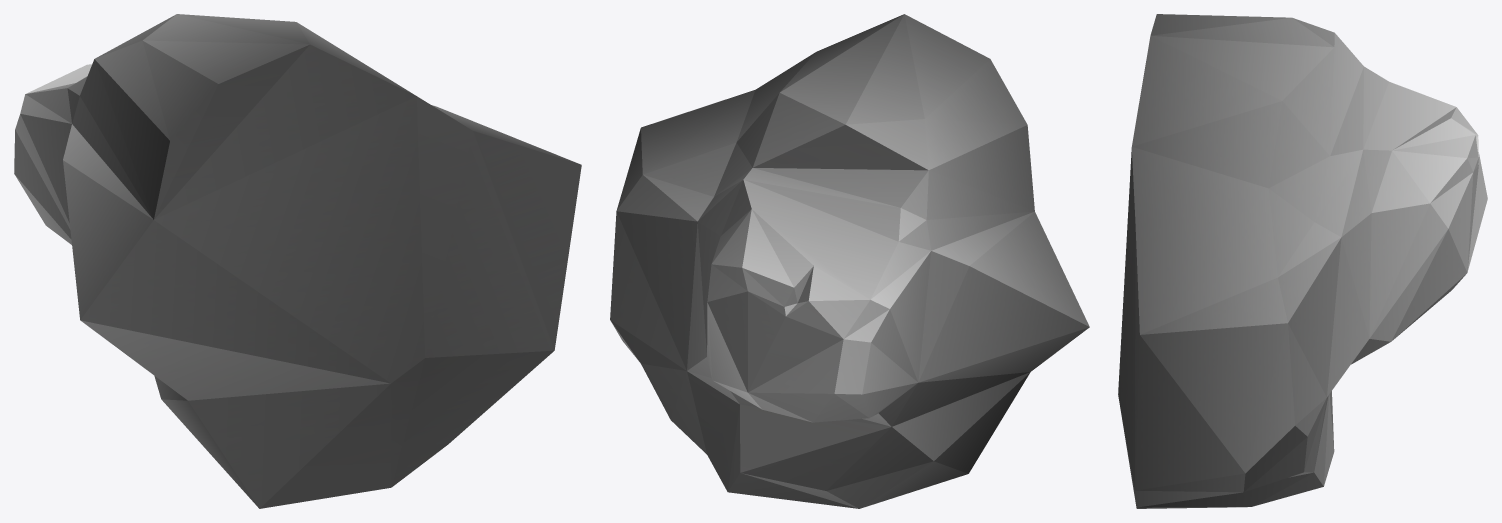
The model's file is SM_RockFormation3.fbx.
3 renders of one model, left to right at view 1: azimuth 30°, elevation 25°; view 2: azimuth 150°, elevation 25°; view 3: azimuth 270°, elevation 25°, orthographic. The views are drawn at different scales.
Visible parts, largest first — view 1: SM_RockFormation3; view 2: SM_RockFormation3; view 3: SM_RockFormation3.
Part boxes in pixels (left/top/right/bottom): SM_RockFormation3: left=14, top=14, right=581, bottom=508; SM_RockFormation3: left=610, top=14, right=1089, bottom=508; SM_RockFormation3: left=1118, top=14, right=1487, bottom=508.
Bounding box in the file's own units: 181 × 166 × 127.
